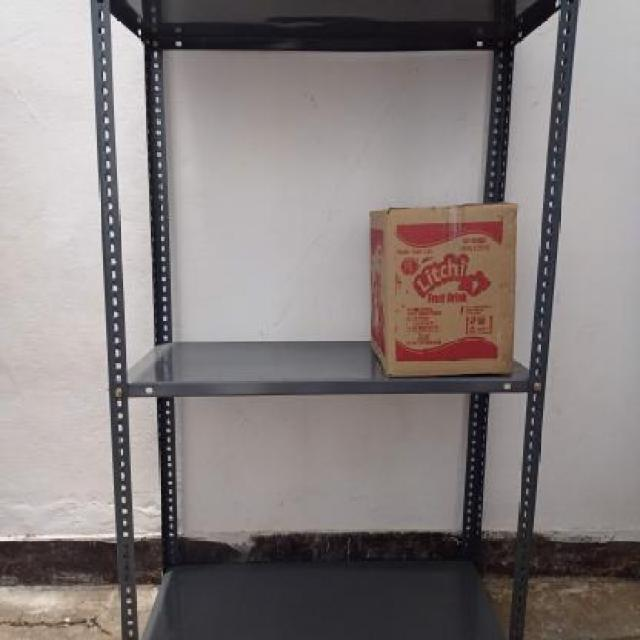box: (384, 208, 518, 377)
